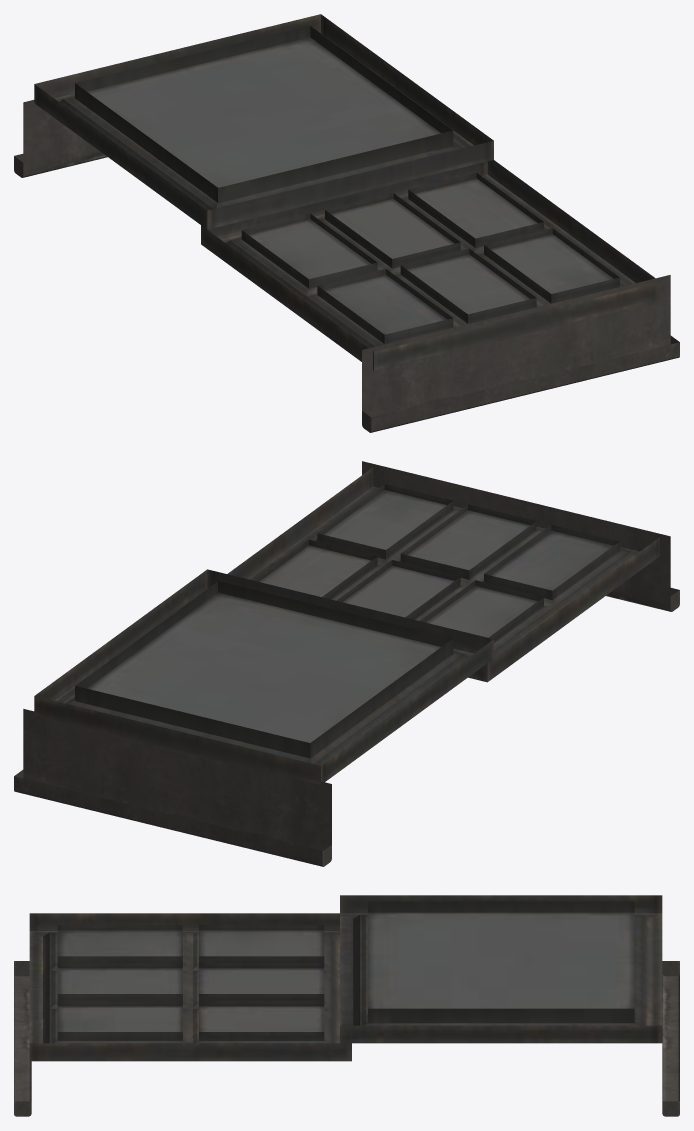
The model's file is window_centered_small_03.gltf.
3 views of the same model, one above another, from view 1: azimuth 30°, elevation 25°; view 2: azimuth 150°, elevation 25°; view 3: azimuth 270°, elevation 25° (orthographic). The views are drawn at different scales.
Visible parts, largest first — view 1: window_centered_small_03; view 2: window_centered_small_03; view 3: window_centered_small_03.
Part boxes in pixels (bbox=[...]): window_centered_small_03: bbox=[14, 14, 679, 432]; window_centered_small_03: bbox=[14, 461, 679, 866]; window_centered_small_03: bbox=[14, 895, 679, 1116].
Bounding box in the file's own units: 0.84 × 0.2549 × 1.68.
Materials: 3 (3 with a texture image).
